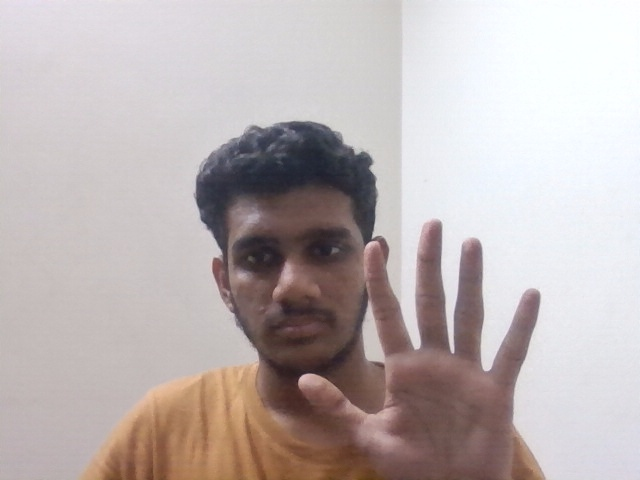hello: (298, 205, 540, 472)
